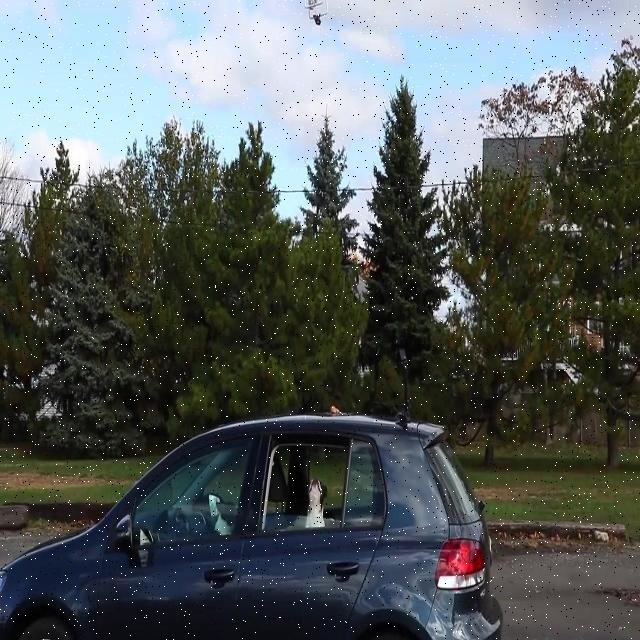UAV: (304, 0, 328, 27)
